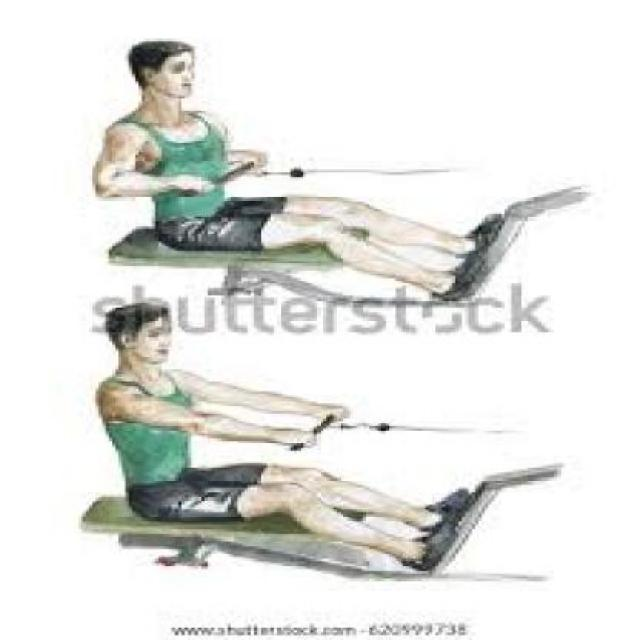Seated Cable Rows: (77, 26, 621, 326), (70, 303, 584, 589)
